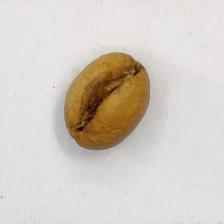NG: (68, 53, 143, 141)
